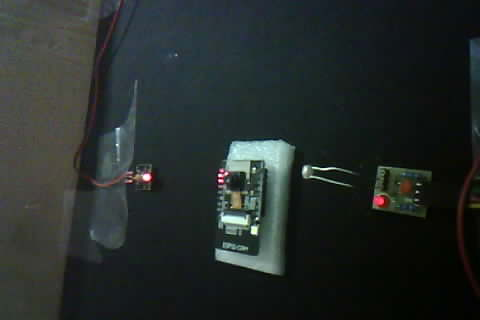esp32: (212, 136, 290, 270)
